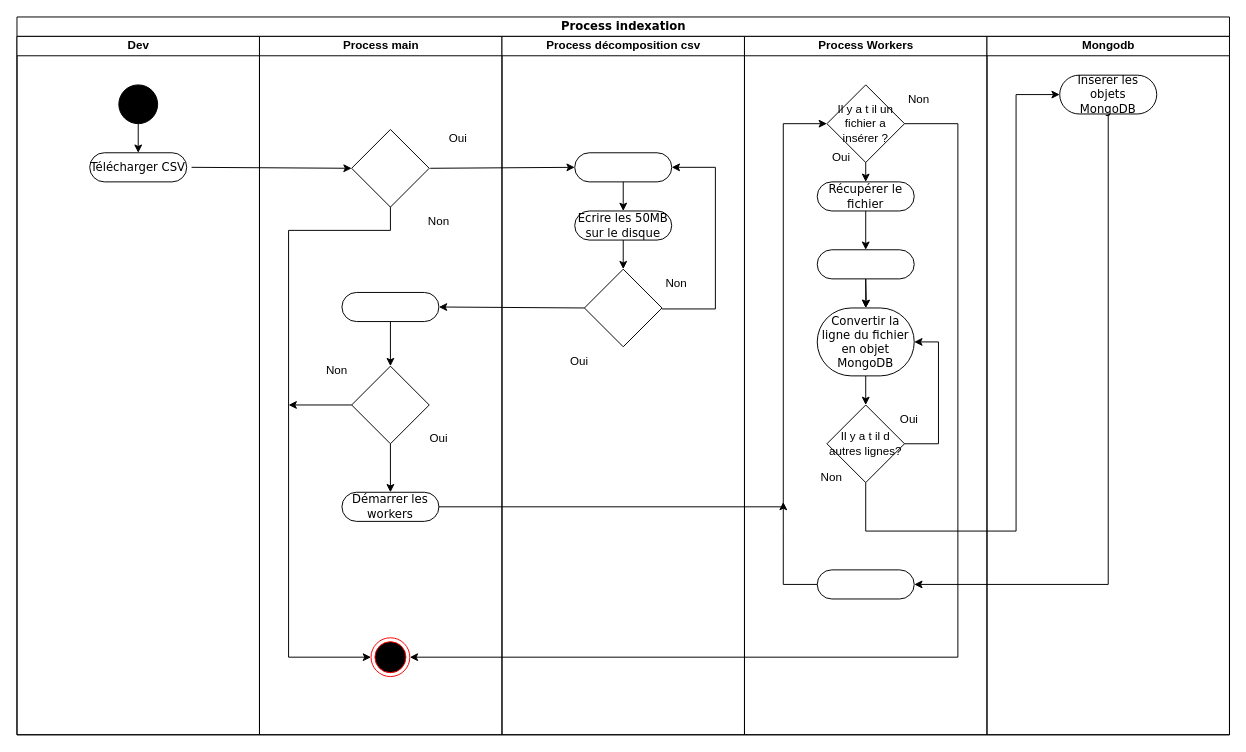
Some shapes in this 1246 by 752 pixel diagram are drawn without their labels. The centre of each missing label's shape, as x and y in pixels:
"Connexion a MongoDB" belongs at pixel 865 264.
"Connexion a PM2" belongs at pixel 390 306.
"Connexion a PM2 réussi ?" belongs at pixel 390 404.
"Déconnexion de MongoDB" belongs at pixel 865 584.
"Est-ce la fin du CSV ?" belongs at pixel 622 307.
"Le fichier existe ?" belongs at pixel 390 168.
"Récupérer 50MB du CSV" belongs at pixel 623 167.
